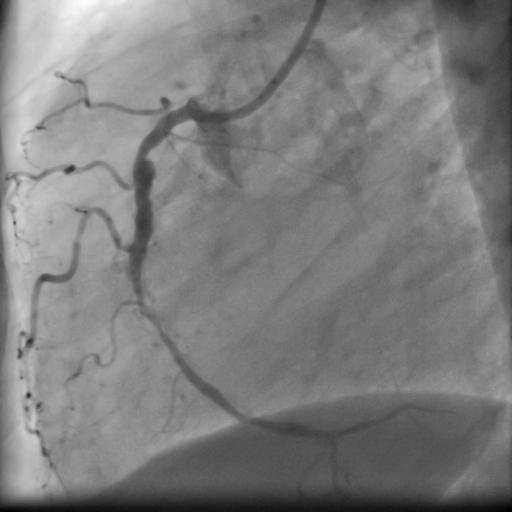Stenosis: (134, 136, 155, 164)
